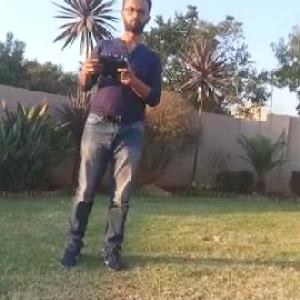follow: (50, 0, 166, 277)
